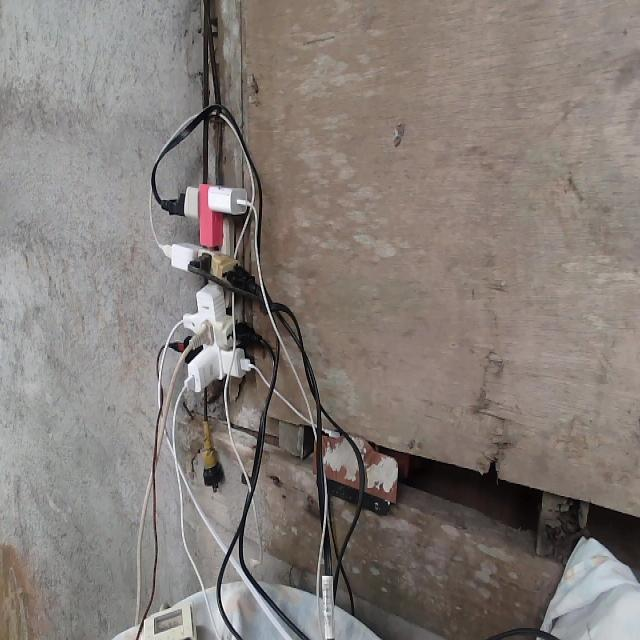-: (168, 182, 252, 394)
